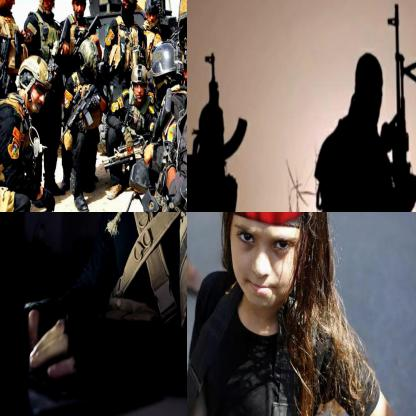rifle: (85, 123, 186, 211), (382, 0, 415, 211), (201, 49, 249, 182)
